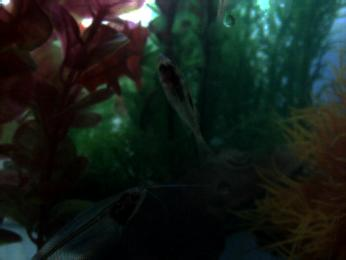X-ray fish: (155, 52, 214, 161)
glassfish: (28, 185, 148, 260)
